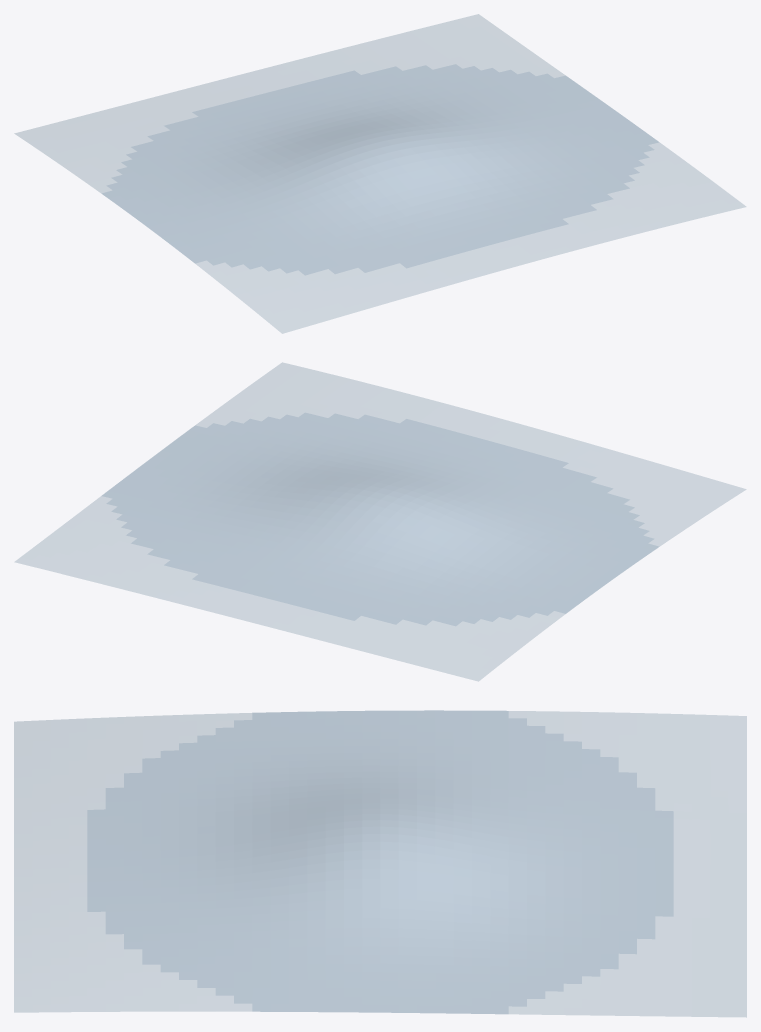
Rendered from WorldCell_-3_-3.fbx.
3 views of the same model, one above another, from view 1: azimuth 30°, elevation 25°; view 2: azimuth 150°, elevation 25°; view 3: azimuth 270°, elevation 25° (orthographic). The views are drawn at different scales.
Visible parts, largest first — view 1: WorldCell_-3_-3; view 2: WorldCell_-3_-3; view 3: WorldCell_-3_-3.
Boxes of the visible parts, left/top/right/bottom form: WorldCell_-3_-3: left=14, top=14, right=746, bottom=333; WorldCell_-3_-3: left=14, top=362, right=746, bottom=681; WorldCell_-3_-3: left=14, top=710, right=746, bottom=1017.
Size of the model in its own units: 60000 by 3855 by 60000.
